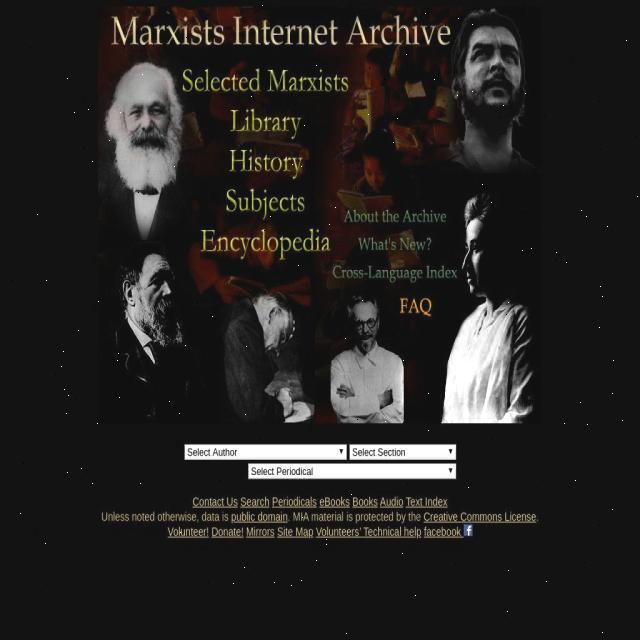dropdownMenu: (249, 463, 457, 478), (185, 446, 346, 461), (350, 442, 454, 460)
